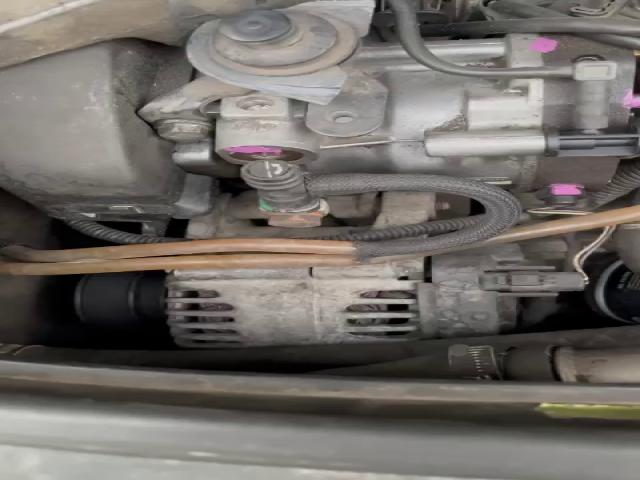alternator: (165, 239, 594, 349)
high_pressure_pump: (208, 29, 638, 210)
